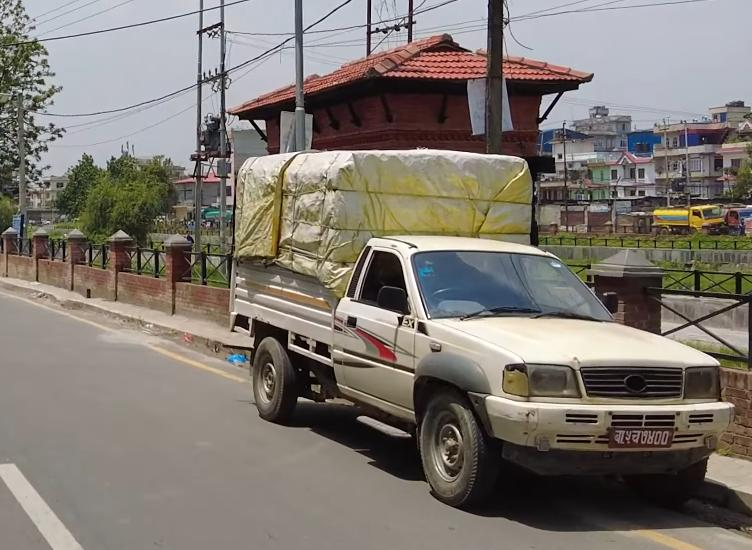transport_vehicle: (233, 148, 746, 509)
truck: (639, 197, 740, 238)
